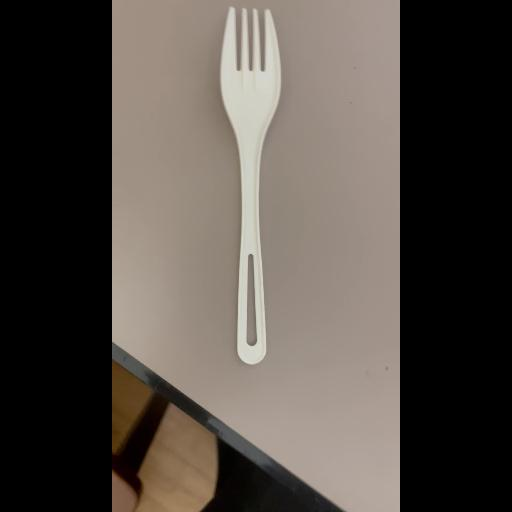utensil: (201, 0, 288, 366)
